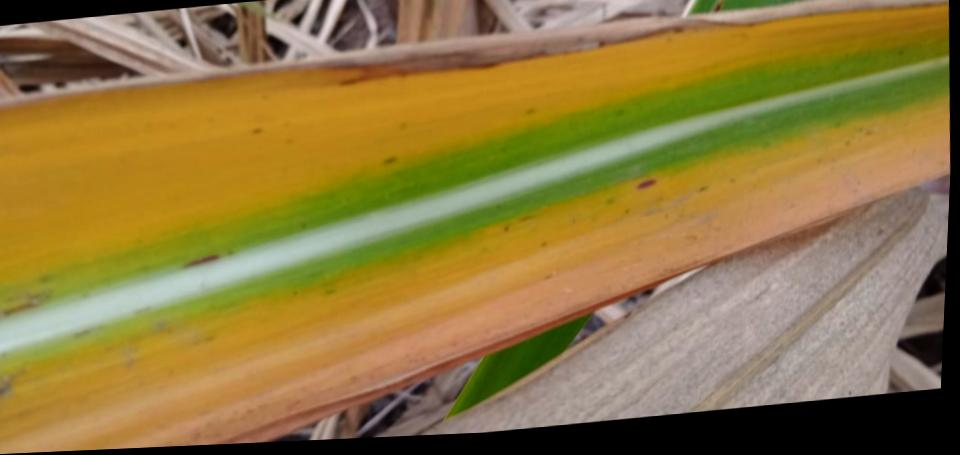Rust: (182, 253, 221, 269), (635, 177, 659, 189)
Yellow: (0, 86, 950, 454), (0, 1, 949, 310)
